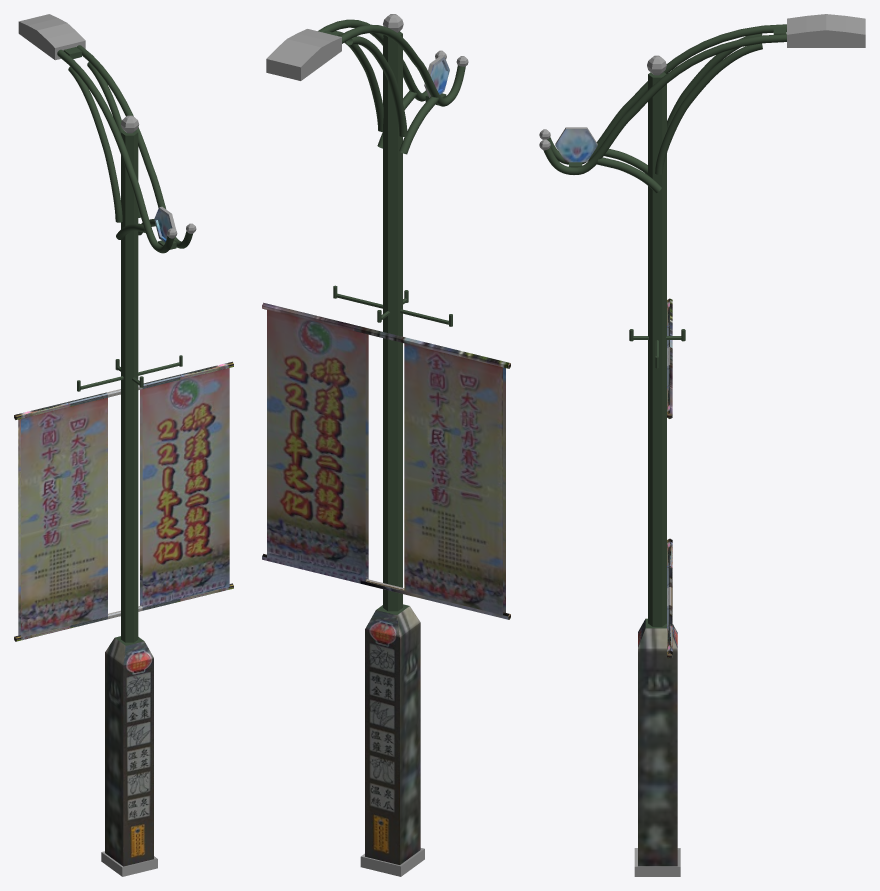
3 views of the same model, side by side, from view 1: azimuth 30°, elevation 25°; view 2: azimuth 150°, elevation 25°; view 3: azimuth 270°, elevation 25° (orthographic). The views are drawn at different scales.
Visible parts, largest first — view 1: 路燈; view 2: 路燈; view 3: 路燈.
Boxes of the visible parts, left/top/right/bottom form: 路燈: left=14, top=14, right=233, bottom=876; 路燈: left=262, top=14, right=510, bottom=876; 路燈: left=539, top=14, right=865, bottom=876.
Bounding box in the file's own units: 137 × 472 × 165.
5 materials, 3 textured.
